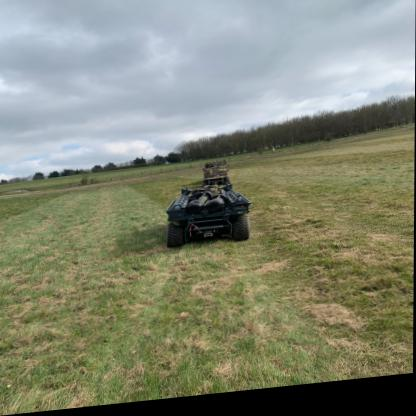UGV: (162, 184, 253, 254)
